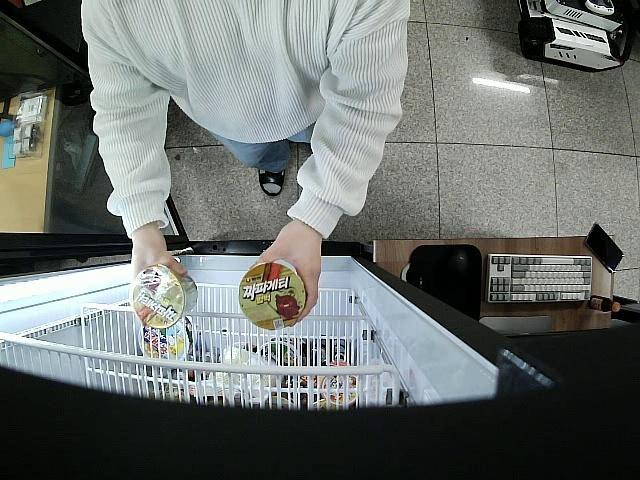04_chapagetti_S: (236, 260, 308, 330), (132, 266, 198, 330)
